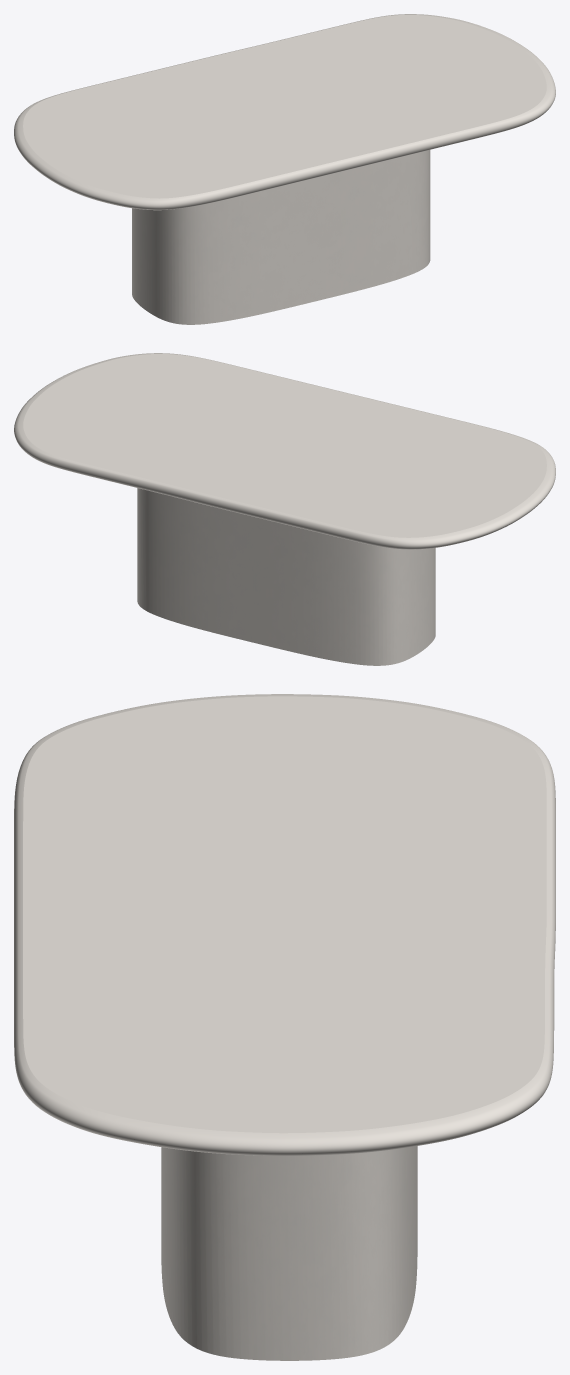
Rendered from pearlwhite_oval_round_fixed.glb.
3 renders of one model, top to bottom at view 1: azimuth 30°, elevation 25°; view 2: azimuth 150°, elevation 25°; view 3: azimuth 270°, elevation 25°, orthographic. The views are drawn at different scales.
Parts seen in each view (by area): view 1: round_oval, fixed; view 2: round_oval, fixed; view 3: round_oval, fixed.
Part boxes in pixels (x1,y1,x2,y2): round_oval: [14, 14, 555, 210]; fixed: [132, 150, 430, 324]; round_oval: [14, 353, 555, 549]; fixed: [137, 488, 435, 665]; round_oval: [14, 694, 555, 1155]; fixed: [161, 1146, 417, 1360].
Bounding box in the file's own units: 7.5 × 2.5 × 3.8.
1 material, 1 textured.
